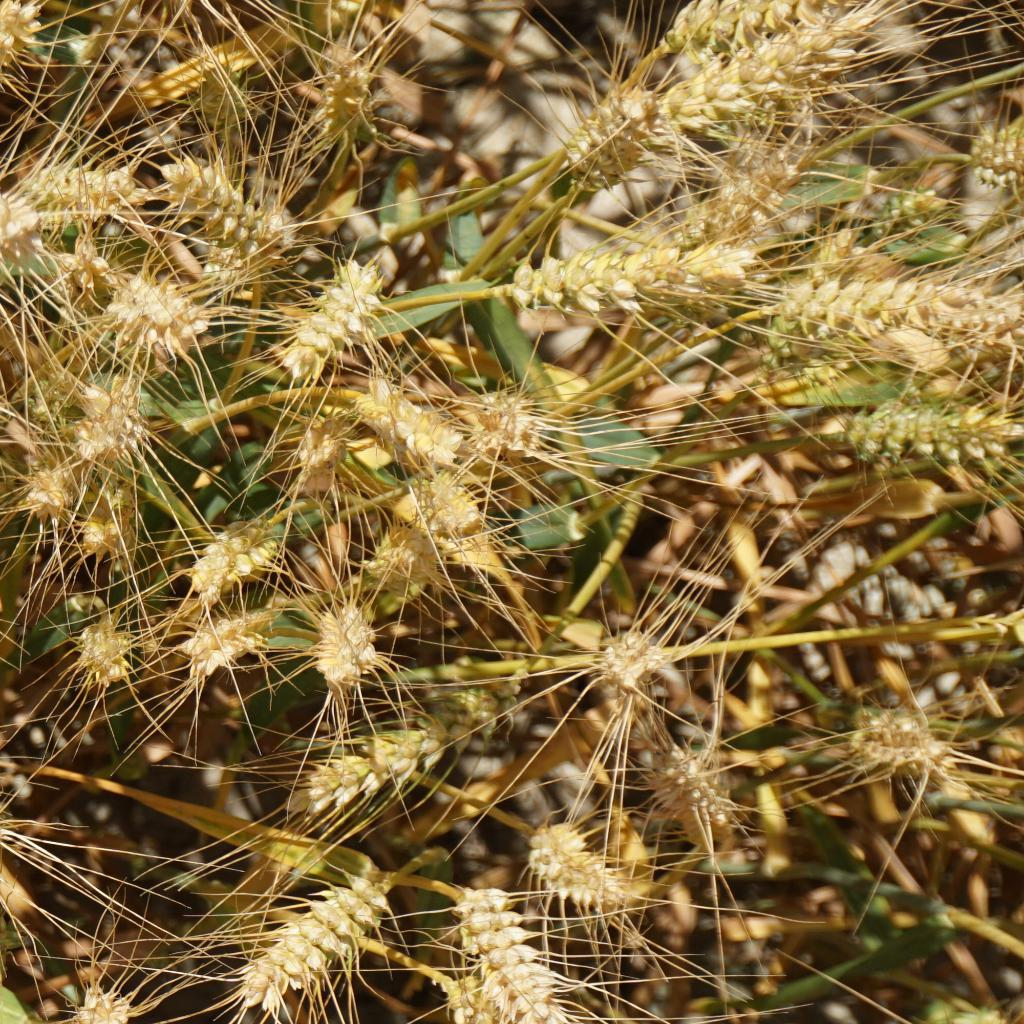0-0: (288, 659, 540, 819), (229, 851, 406, 1019), (480, 237, 762, 323), (742, 217, 866, 397), (446, 868, 565, 1024), (655, 47, 870, 132), (280, 254, 401, 387), (837, 387, 1020, 474), (770, 265, 963, 342), (12, 145, 157, 229), (160, 143, 268, 240), (99, 273, 209, 368), (670, 0, 854, 54), (687, 159, 813, 236), (645, 743, 736, 847), (303, 34, 389, 143), (303, 587, 393, 689), (525, 823, 626, 912), (175, 600, 288, 678), (930, 268, 1024, 360), (352, 384, 465, 460), (430, 976, 608, 1024), (457, 382, 556, 465), (189, 509, 280, 599), (840, 700, 945, 775), (69, 380, 157, 463), (182, 49, 263, 139), (553, 80, 653, 152), (854, 183, 959, 250), (593, 610, 668, 700), (195, 216, 290, 279), (557, 138, 655, 197), (0, 185, 54, 291), (410, 473, 483, 534), (360, 524, 428, 585), (963, 118, 1024, 186), (75, 608, 132, 679), (285, 400, 344, 466), (0, 0, 38, 102), (53, 235, 111, 300), (18, 360, 68, 432), (18, 459, 75, 521), (75, 515, 144, 560), (62, 985, 138, 1024), (0, 796, 22, 877), (935, 1007, 1016, 1024)
